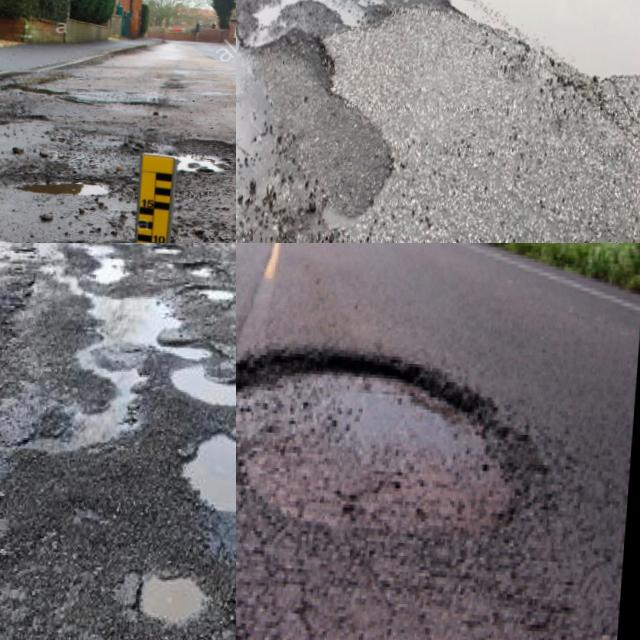Potholes: (236, 299, 577, 579), (405, 0, 640, 176), (26, 113, 236, 243), (0, 325, 156, 494), (43, 243, 236, 369), (236, 0, 375, 141), (97, 508, 236, 640), (0, 53, 177, 155), (129, 314, 236, 438), (176, 404, 236, 574), (0, 80, 91, 185)
